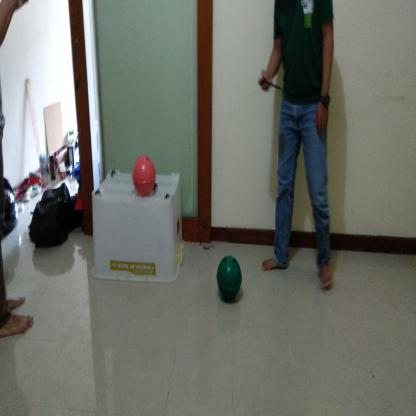green_buoy: (214, 250, 242, 302)
red_buoy: (132, 154, 158, 197)
